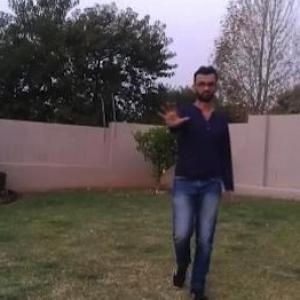follow_hand: (152, 97, 193, 132)
